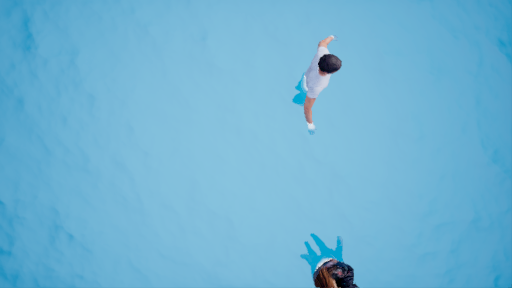person: (289, 35, 342, 131), (296, 224, 354, 288)
